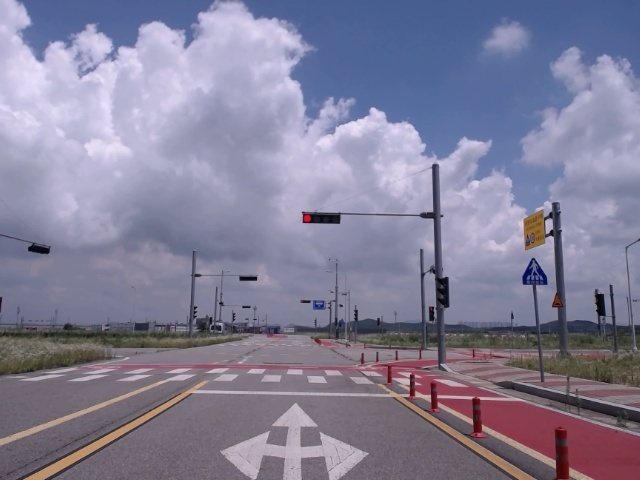red_4: (303, 211, 341, 225)
